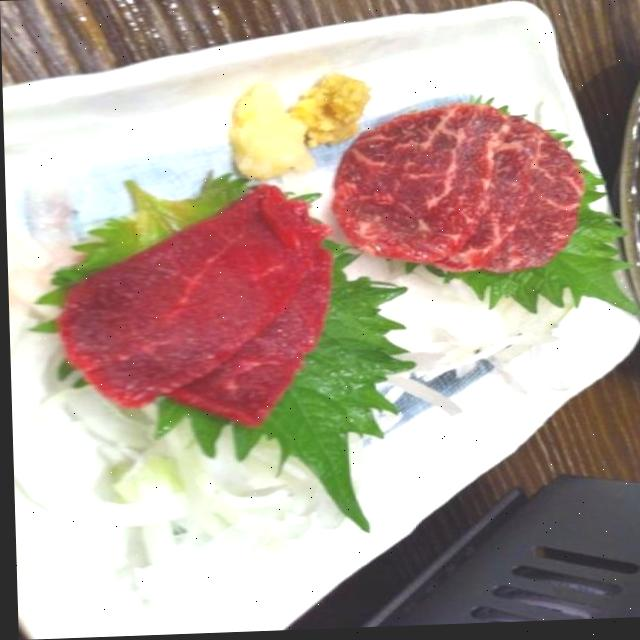刺身生食: (35, 87, 613, 460)
